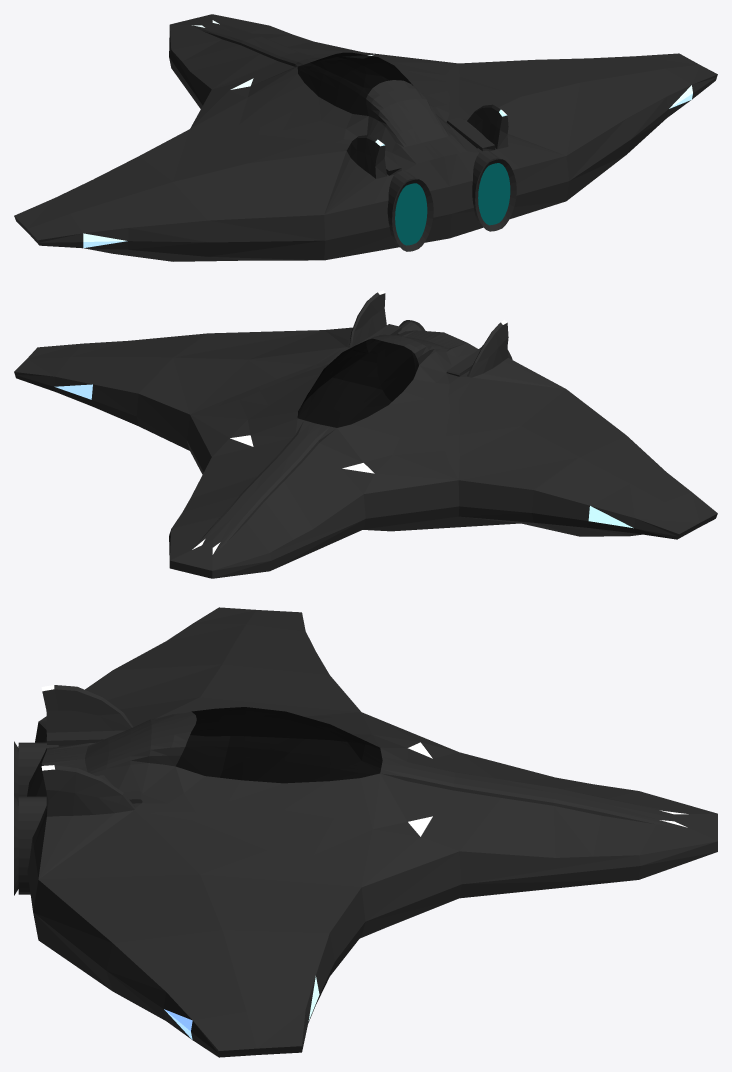
The model's file is heavy_bruiser_mk1.glb.
3 renders of one model, top to bottom at view 1: azimuth 30°, elevation 25°; view 2: azimuth 150°, elevation 25°; view 3: azimuth 270°, elevation 25°, orthographic. The views are drawn at different scales.
Parts seen in each view (by area): view 1: heavy_bruiser; view 2: heavy_bruiser; view 3: heavy_bruiser.
Boxes of the visible parts, <box> form: heavy_bruiser: <box>14,14,717,261</box>; heavy_bruiser: <box>14,290,717,578</box>; heavy_bruiser: <box>14,607,717,1057</box>.
Size of the model in its own units: 17.98 by 3.81 by 12.06.
